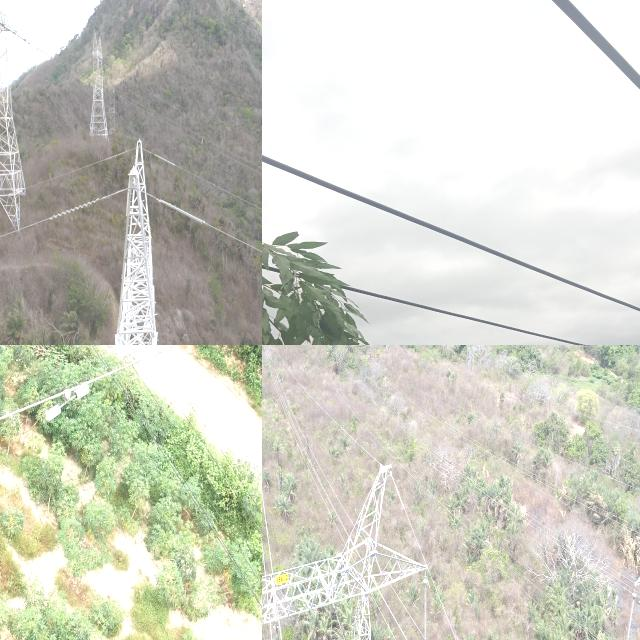杆塔: (262, 463, 446, 640), (111, 133, 170, 345), (0, 0, 42, 237), (86, 2, 112, 160)
正常电缆: (0, 345, 215, 438)
正常绝缘子: (620, 583, 638, 640), (422, 577, 428, 640), (273, 623, 281, 640)
